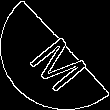M_NE: (19, 21, 91, 89)
